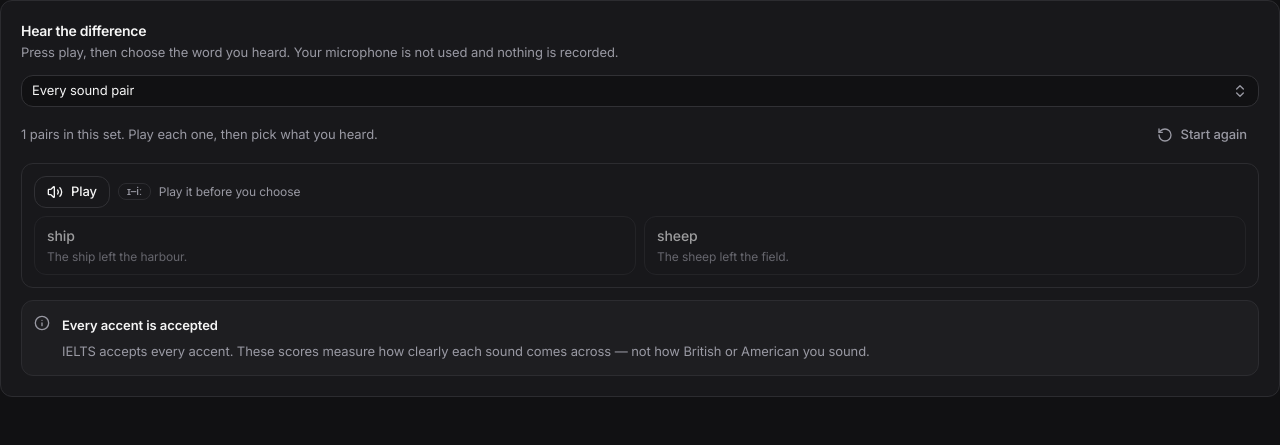
Scenario: the minimal-pair drill › marks the answer against the word it actually played
Click the button "Play".
click(72, 192)  # box 34,176 -> 110,208
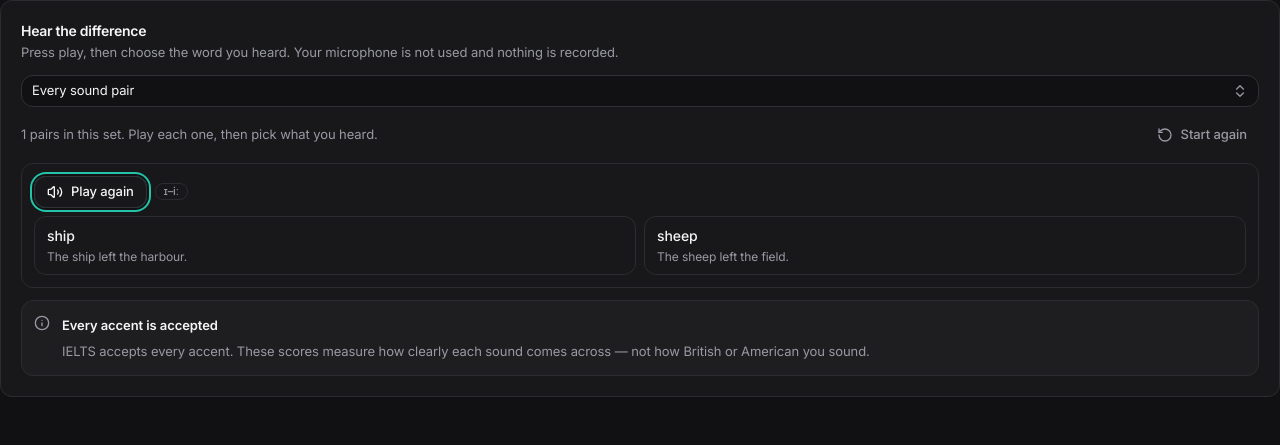
Expected: the text "ship" is shown, 47,226 -> 75,244
Click the button "sheep The sheep left the field.".
click(677, 235)  # box 644,216 -> 1246,274
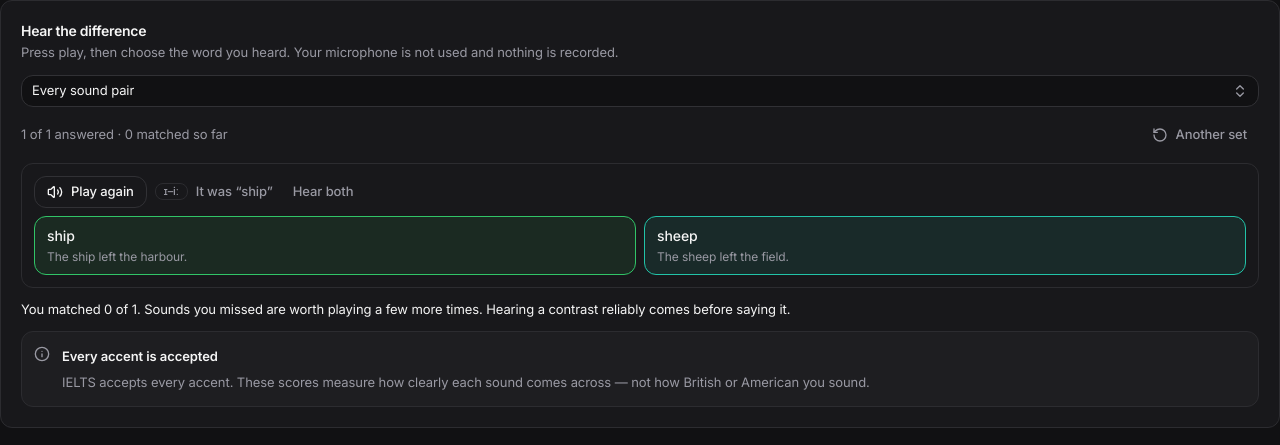
Now the text "It was “ship”" is shown, box 196,182 -> 273,201
Click the button "Another set".
click(1199, 134)  # box 1140,118 -> 1259,150
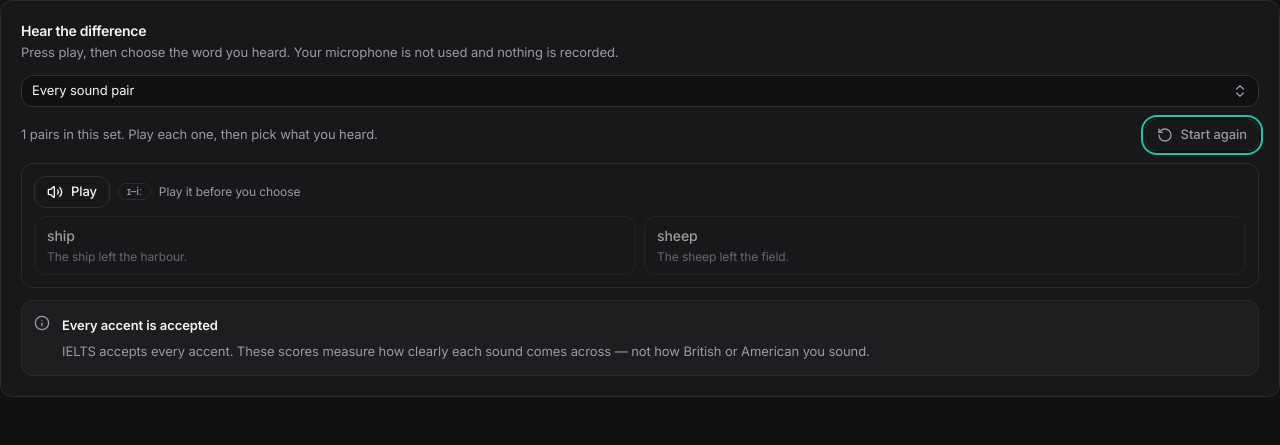
Click the button "Play".
click(72, 192)  # box 34,176 -> 110,208
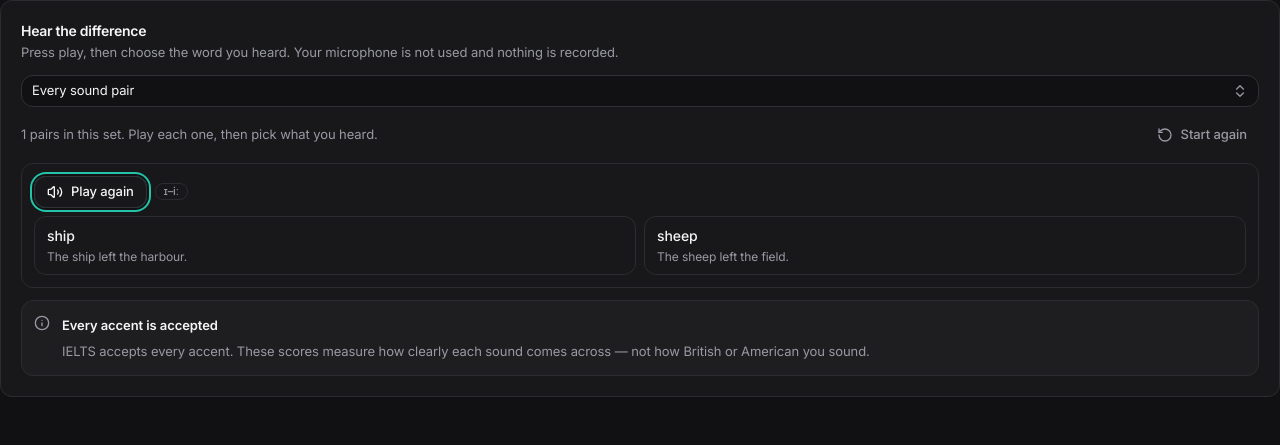
Click the button "ship The ship left the harbour.".
click(117, 256)  # box 34,216 -> 636,274
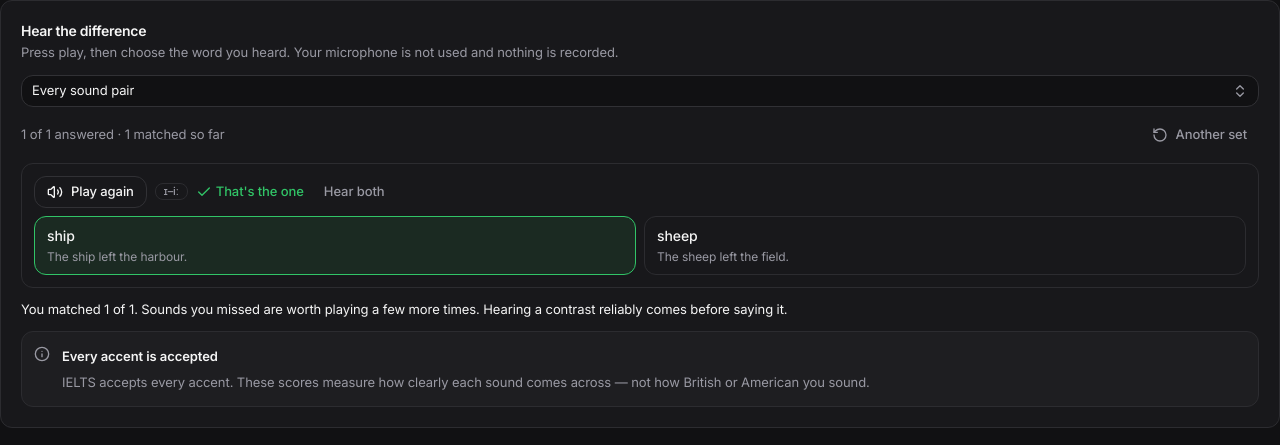
Now the text "That's the one" is shown, box 196,182 -> 304,201
